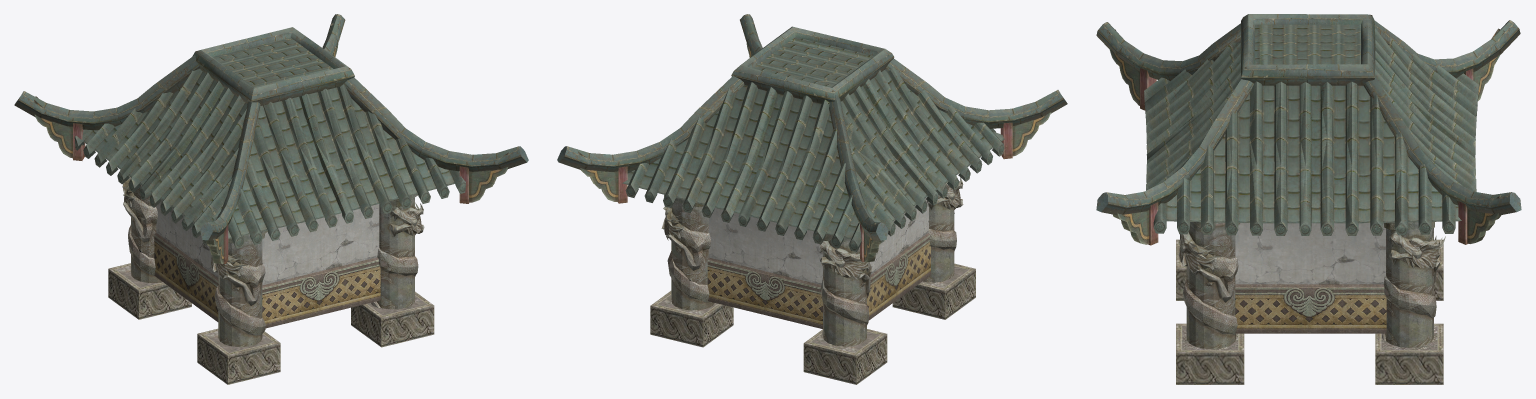
Rendered from bg_anh_delphic_bd03_sm_old.FBX.
The picture shows the model from 3 angles, left to right: view 1: azimuth 30°, elevation 25°; view 2: azimuth 150°, elevation 25°; view 3: azimuth 270°, elevation 25°; orthographic projection. The views are drawn at different scales.
Parts seen in each view (by area): view 1: bg_anh_delphic_bd03_sm_old; view 2: bg_anh_delphic_bd03_sm_old; view 3: bg_anh_delphic_bd03_sm_old.
Part boxes in pixels (x1,y1,x2,y2): bg_anh_delphic_bd03_sm_old: (14,14,528,384); bg_anh_delphic_bd03_sm_old: (557,14,1067,384); bg_anh_delphic_bd03_sm_old: (1096,14,1521,384).
Bounding box in the file's own units: 448 × 337 × 447.
